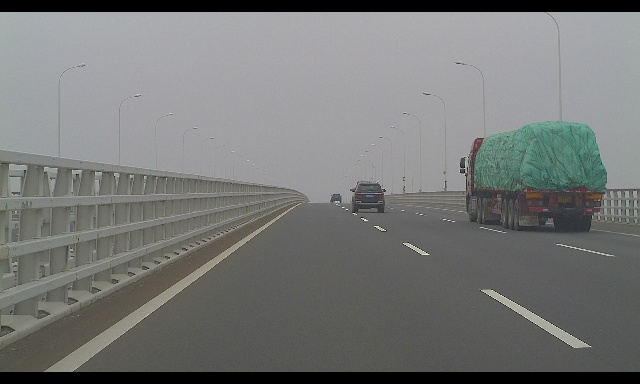car: (350, 181, 386, 212), (330, 193, 342, 203)
truck: (460, 121, 607, 232)
